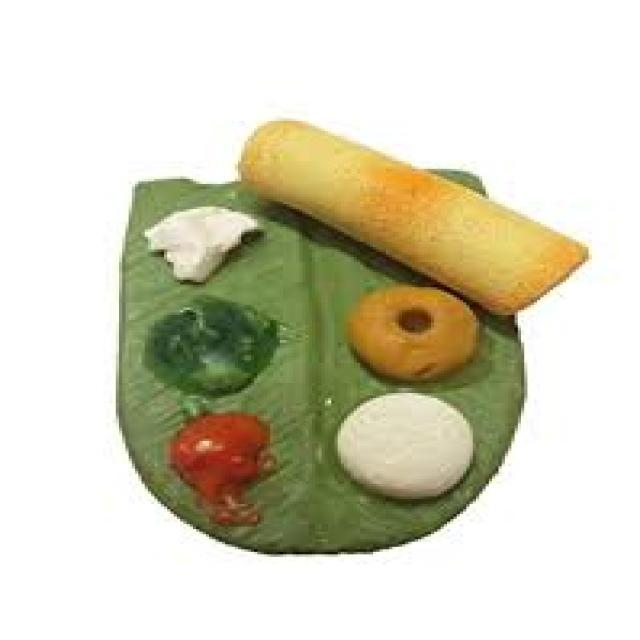dosa: (232, 127, 596, 316)
pickle: (153, 407, 293, 496)
sweet: (330, 279, 493, 381)
